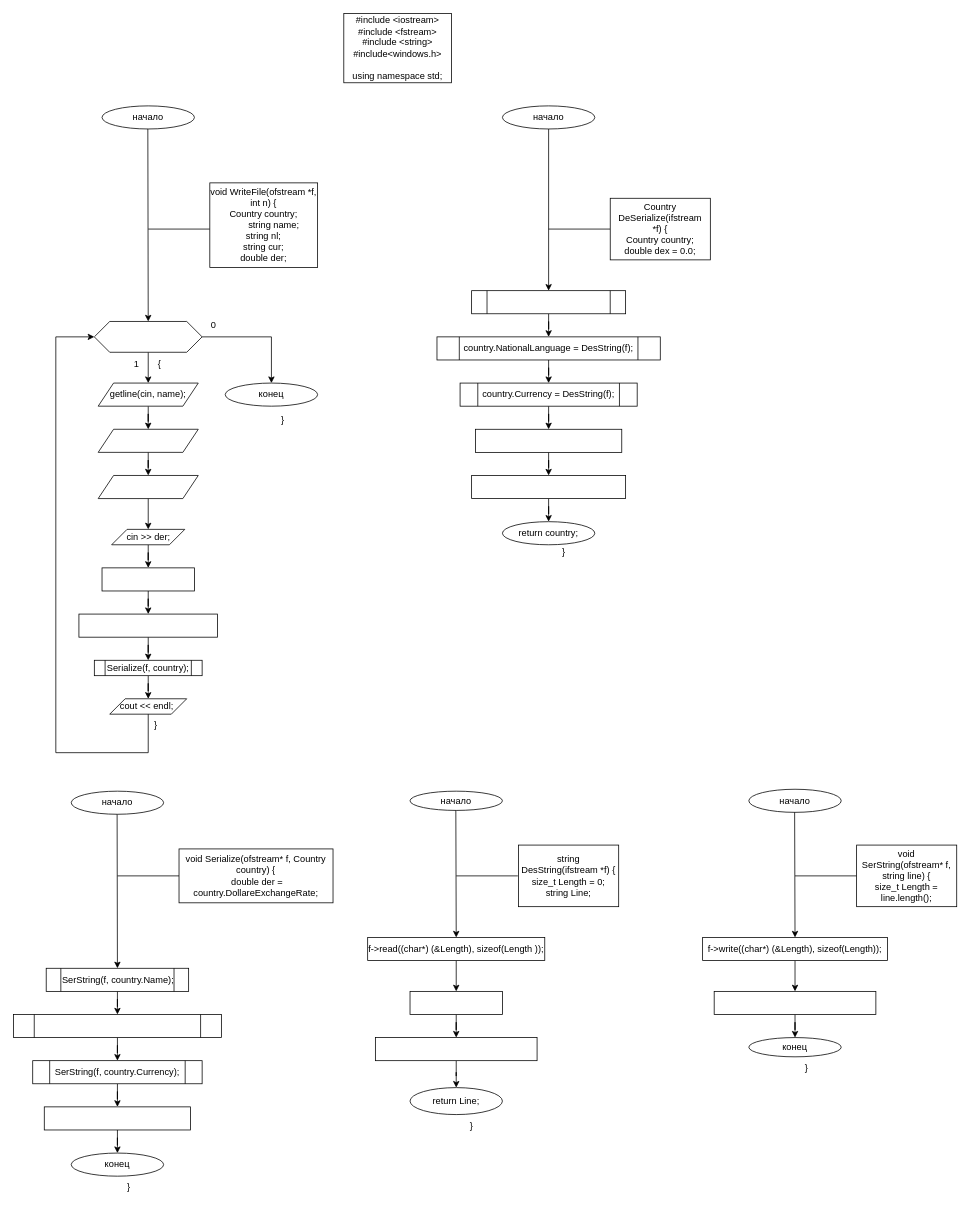
This 970x1213 diagram has some shape labels left out. The shapes that lost their labels are listed below. From the top down, each one's centre as x and y in pixels, then its label:
At point (548, 302): "country.Name = DesString(f);".
At point (148, 336): "for (int i = 0; i < n; i++)".
At point (147, 440): "getline(cin, nl);".
At point (548, 440): "f->read((char*) &dex, sizeof(dex));".
At point (147, 487): "getline(cin, cur);".
At point (548, 487): "country.DollareExchangeRate = dex;".
At point (147, 579): "cin.ignore();".
At point (148, 625): "country.FillIn(name, nl, cur, der);".
At point (455, 1002): "Line.resize(Length);".
At point (794, 1002): "f->write((char*) (line.data()), Length);".
At point (117, 1026): "SerString(f, country.NationalLanguage);".
At point (456, 1049): "f->read((char*) (Line.data()), Length);".
At point (117, 1118): "f->write((char*) &der, sizeof(der));".
